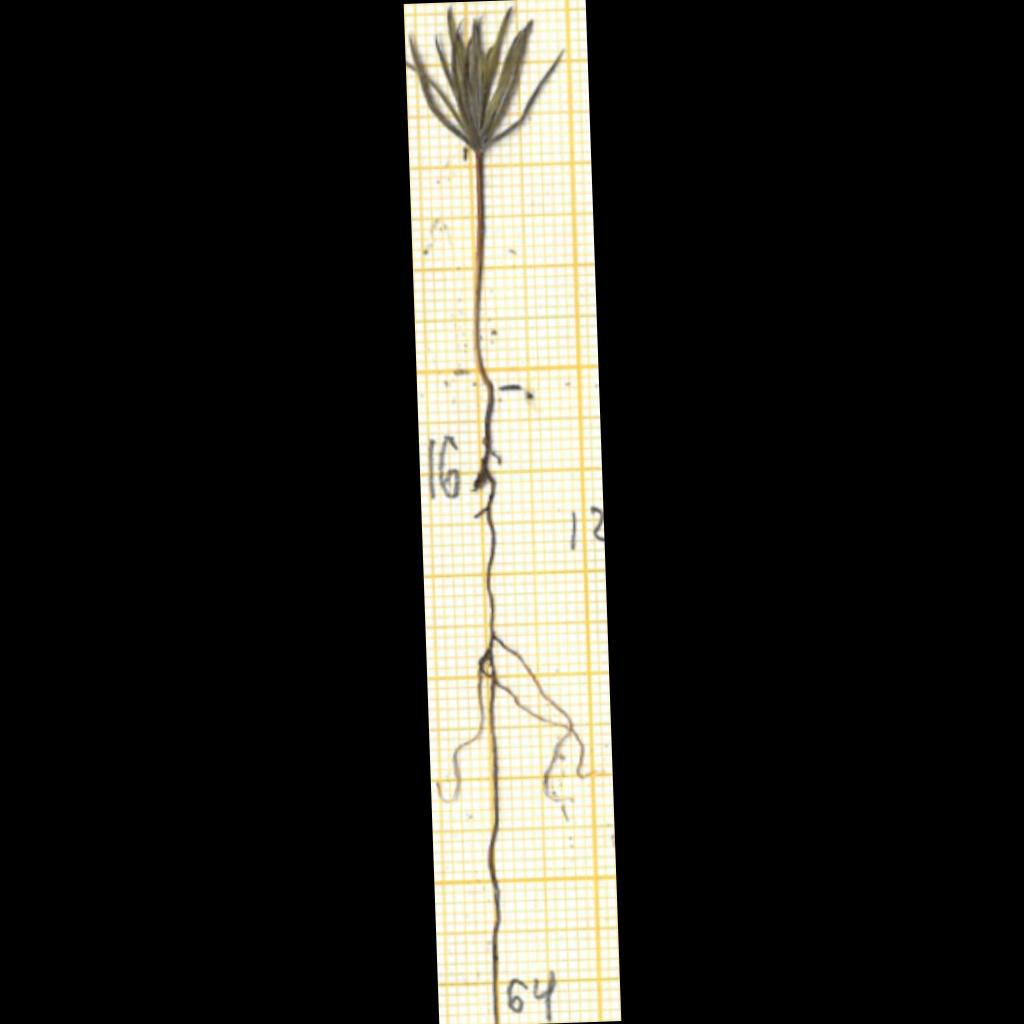flowerPinus: (411, 8, 532, 153)
rootPinus: (475, 377, 584, 1023)
stemPinus: (473, 153, 485, 382)
